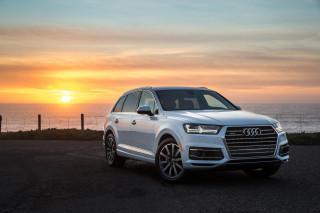Audi: (240, 124, 265, 140)
